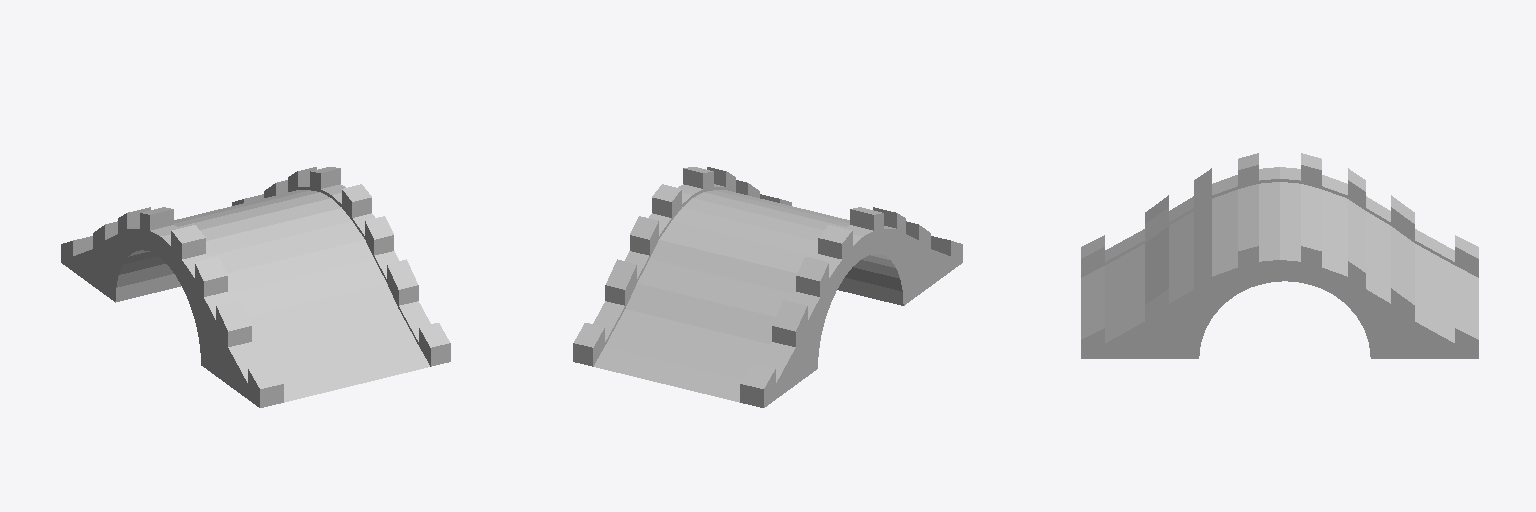
File: bridge3.obj
The picture shows the model from 3 angles: view 1: azimuth 30°, elevation 25°; view 2: azimuth 150°, elevation 25°; view 3: azimuth 270°, elevation 25°; orthographic projection.
Parts seen in each view (by area): view 1: Cylinder; view 2: Cylinder; view 3: Cylinder.
Boxes of the visible parts, box(x1,y1,x2,y2) form: Cylinder: box(61, 167, 450, 407); Cylinder: box(573, 167, 962, 407); Cylinder: box(1081, 153, 1478, 358).
Size of the model in its own units: 2 by 1.13 by 3.61.